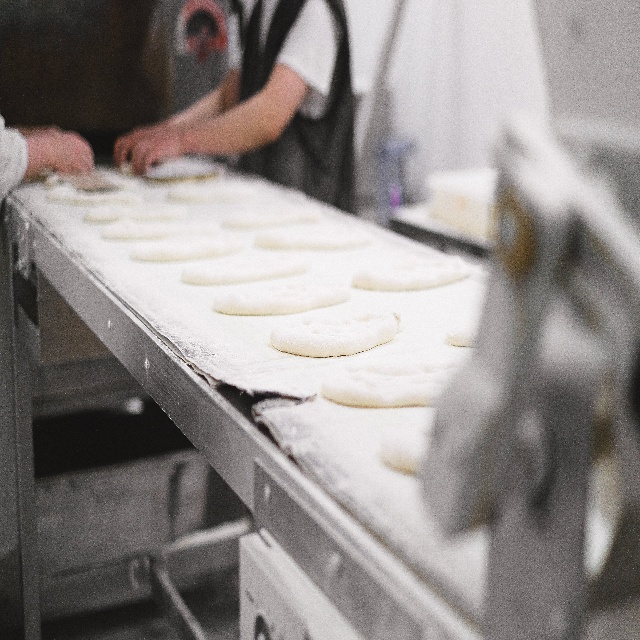Sin_guantes: (130, 129, 183, 177), (52, 132, 95, 178), (113, 129, 146, 170)
